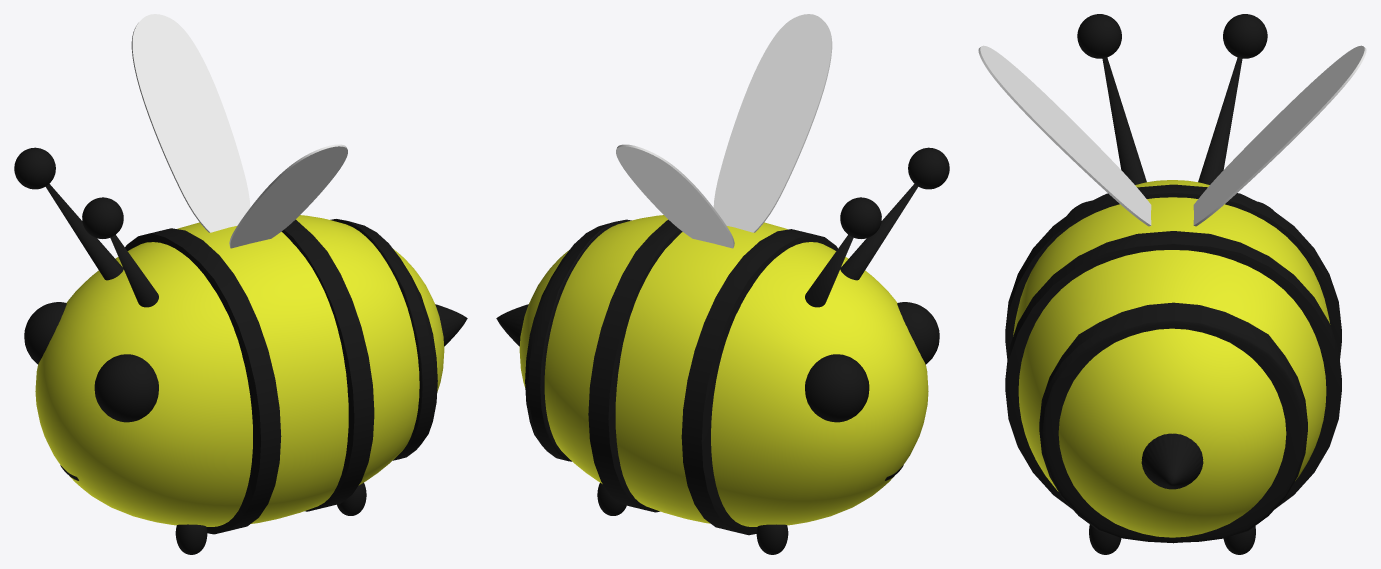
File: bee.glb
3 renders of one model, left to right at view 1: azimuth 30°, elevation 25°; view 2: azimuth 150°, elevation 25°; view 3: azimuth 270°, elevation 25°, orthographic. The views are drawn at different scales.
Parts seen in each view (by area): view 1: Cube, wing2, wing1; view 2: Cube, wing1, wing2; view 3: Cube, wing1, wing2.
Part boxes in pixels (box(x1,y1,x2,y2)): Cube: box(14, 147, 467, 554); wing2: box(131, 14, 250, 232); wing1: box(229, 144, 347, 248); Cube: box(496, 147, 949, 554); wing1: box(713, 14, 832, 232); wing2: box(616, 144, 734, 248); Cube: box(1005, 14, 1341, 554); wing1: box(978, 45, 1151, 226); wing2: box(1193, 45, 1366, 226).
Size of the model in its own units: 3.4 by 3.36 by 2.55.
